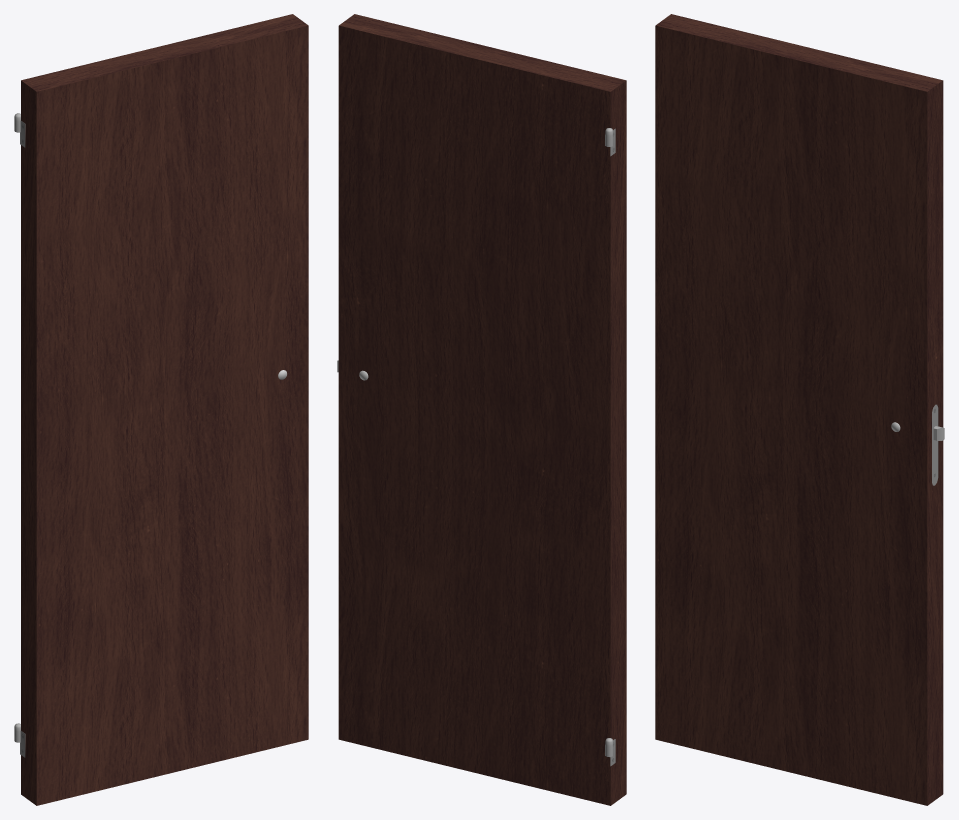
The model's file is Door.fbx.
The picture shows the model from 3 angles, left to right: view 1: azimuth 30°, elevation 25°; view 2: azimuth 150°, elevation 25°; view 3: azimuth 330°, elevation 25°; orthographic projection.
Visible parts, largest first — view 1: D2-Door.001; view 2: D2-Door.001; view 3: D2-Door.001.
Boxes of the visible parts, box(x1,y1,x2,y2) form: D2-Door.001: box(14, 14, 308, 805); D2-Door.001: box(337, 14, 626, 805); D2-Door.001: box(655, 14, 944, 805).
Bounding box in the file's own units: 85.33 × 205 × 11.88.
1 material, 1 textured.
